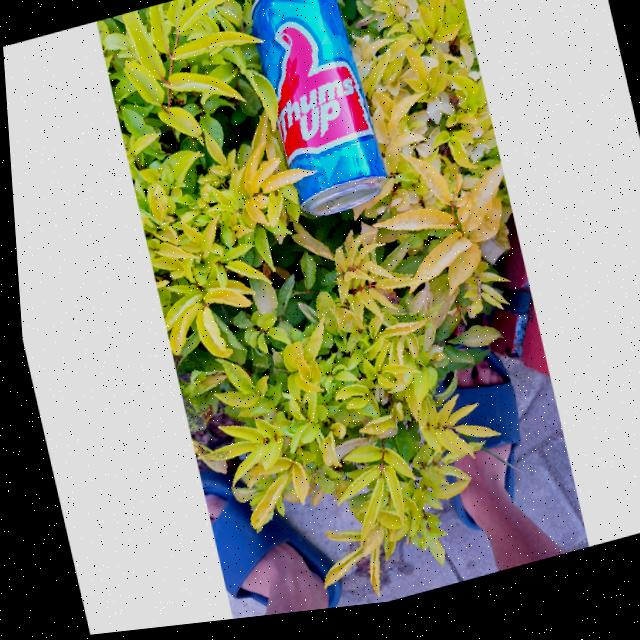Thums Up: (242, 0, 386, 230)
